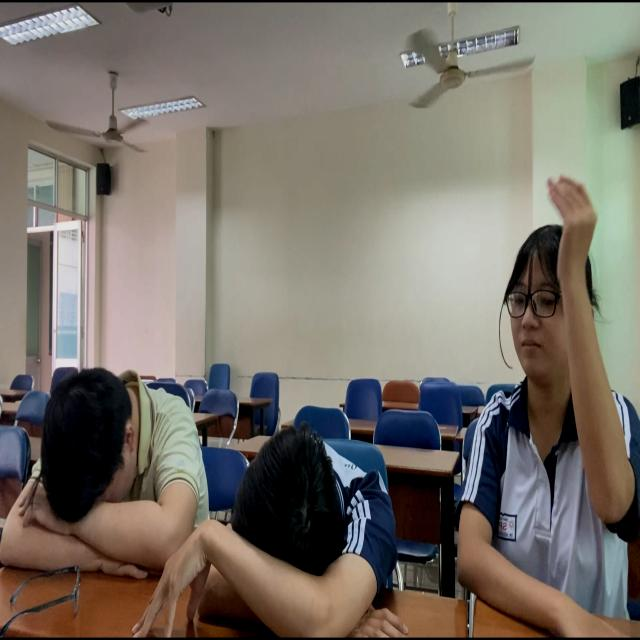raise_hand: (462, 174, 638, 640)
sleep: (187, 423, 410, 640)
